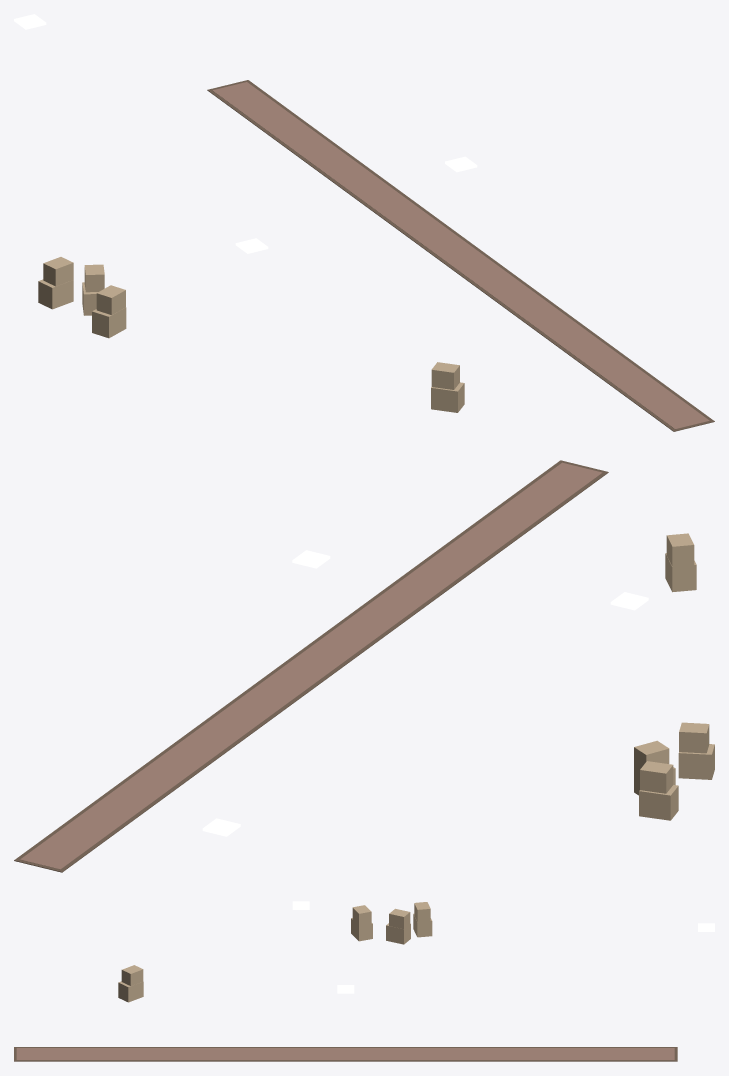
File: fine-s0.glb
3 renders of one model, top to bottom at view 1: azimuth 30°, elevation 25°; view 2: azimuth 150°, elevation 25°; view 3: azimuth 270°, elevation 25°, orthographic. The views are drawn at different scales.
Parts seen in each view (by area): view 1: soft-s0, cardboard-box.000, crate.000, cardboard-box.002, cardboard-box.001; view 2: soft-s0, cardboard-box.000, crate.000, cardboard-box.002, cardboard-box.001; view 3: soft-s0, cardboard-box.002, cardboard-box.001, crate.000, cardboard-box.000.
Part boxes in pixels (box(x1,y1,x2,y2)): soft-s0: box(207, 80, 714, 431); cardboard-box.000: box(38, 257, 73, 309); crate.000: box(92, 285, 126, 338); cardboard-box.002: box(431, 362, 464, 412); cardboard-box.001: box(82, 264, 104, 315); soft-s0: box(14, 460, 608, 872); cardboard-box.000: box(639, 761, 678, 820); crate.000: box(678, 722, 714, 779); cardboard-box.002: box(665, 533, 696, 592); cardboard-box.001: box(634, 740, 675, 795); soft-s0: box(14, 1047, 677, 1061); cardboard-box.002: box(118, 965, 143, 1002); cardboard-box.001: box(386, 908, 410, 944); crate.000: box(351, 905, 372, 941); cardboard-box.000: box(413, 902, 432, 937).
Bounding box in the file's own units: 9.37 × 2.16 × 20.76.
